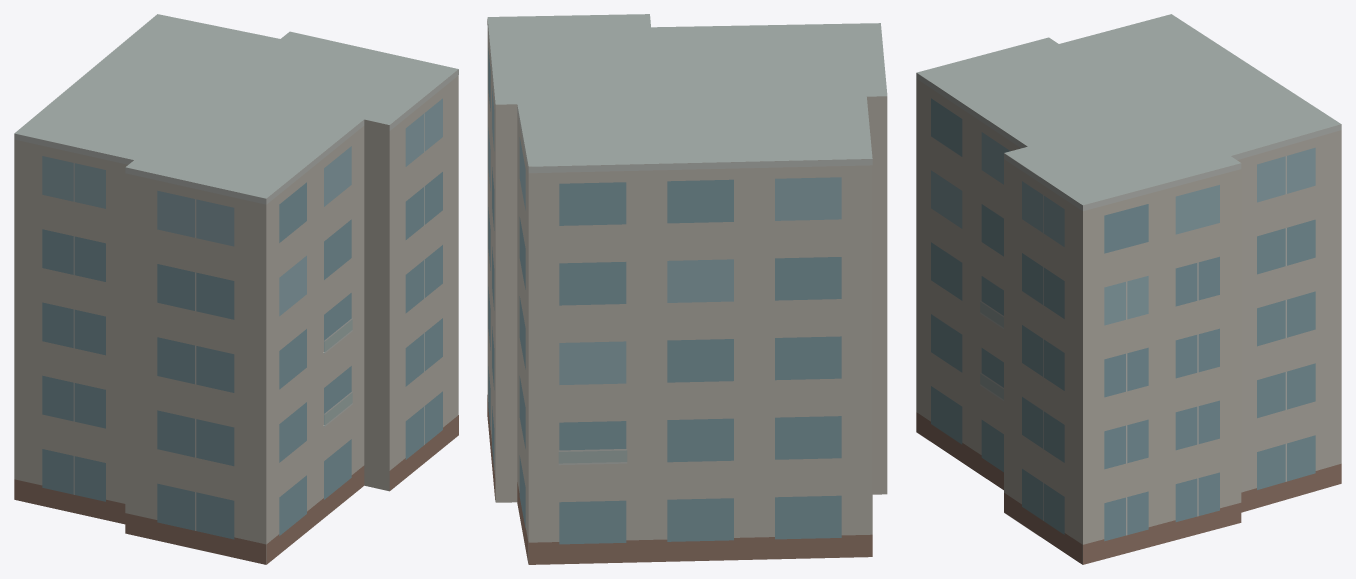
File: survey-upis-32999263.glb
The picture shows the model from 3 angles, left to right: view 1: azimuth 30°, elevation 25°; view 2: azimuth 150°, elevation 25°; view 3: azimuth 270°, elevation 25°; orthographic projection. The views are drawn at different scales.
Parts seen in each view (by area): view 1: survey-upis-32999263.tmp; view 2: survey-upis-32999263.tmp; view 3: survey-upis-32999263.tmp.
Boxes of the visible parts, x1,y1,x2,y2 form: survey-upis-32999263.tmp: (14,14,458,564); survey-upis-32999263.tmp: (487,14,887,564); survey-upis-32999263.tmp: (916,14,1341,564).
Size of the model in its own units: 16.9 by 14.8 by 15.87.
